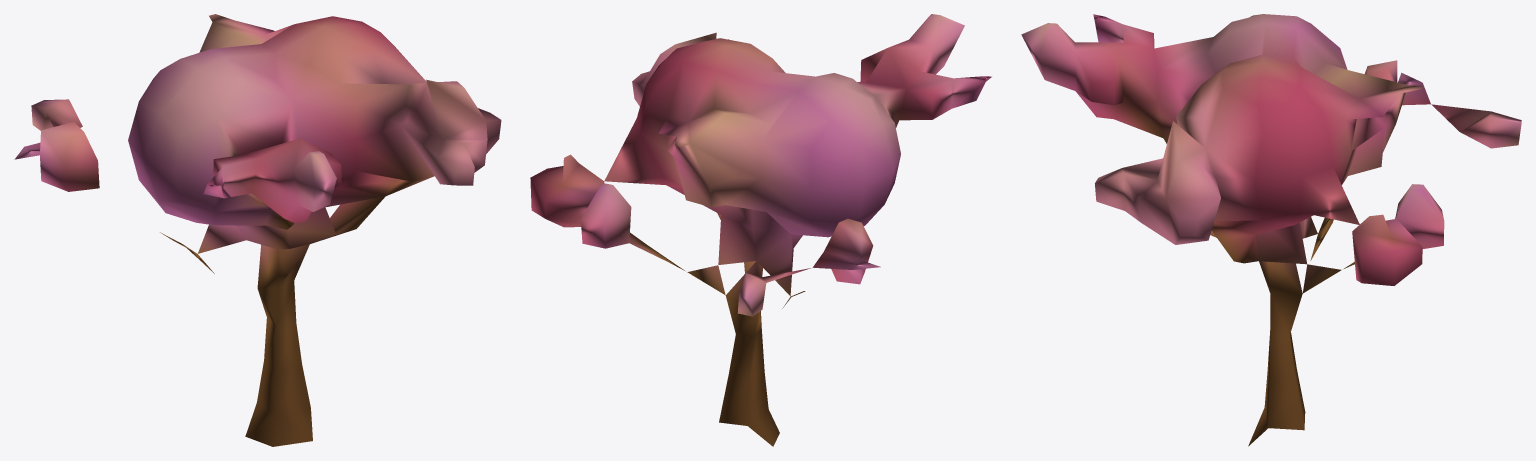
File: canopy-tree-217-lod3.obj
The picture shows the model from 3 angles, left to right: view 1: azimuth 30°, elevation 25°; view 2: azimuth 150°, elevation 25°; view 3: azimuth 270°, elevation 25°; orthographic projection. The views are drawn at different scales.
Parts seen in each view (by area): view 1: simplified; view 2: simplified; view 3: simplified.
Part boxes in pixels (x1,y1,x2,y2): simplified: (14, 14, 501, 446); simplified: (530, 14, 991, 446); simplified: (1021, 14, 1521, 446).
Bounding box in the file's own units: 420 × 428 × 493.
